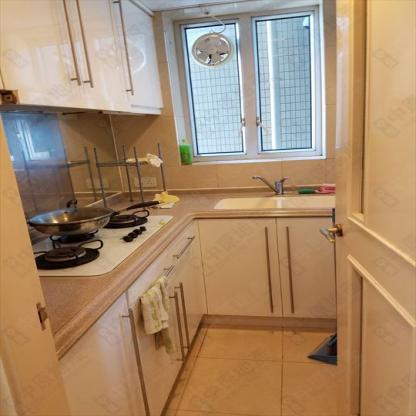Cupboard: (62, 214, 340, 415)
Exhaust Fan: (193, 32, 234, 66)
Faucet: (252, 172, 292, 196)
Sink: (212, 195, 335, 210)
Stove: (33, 213, 175, 276)
